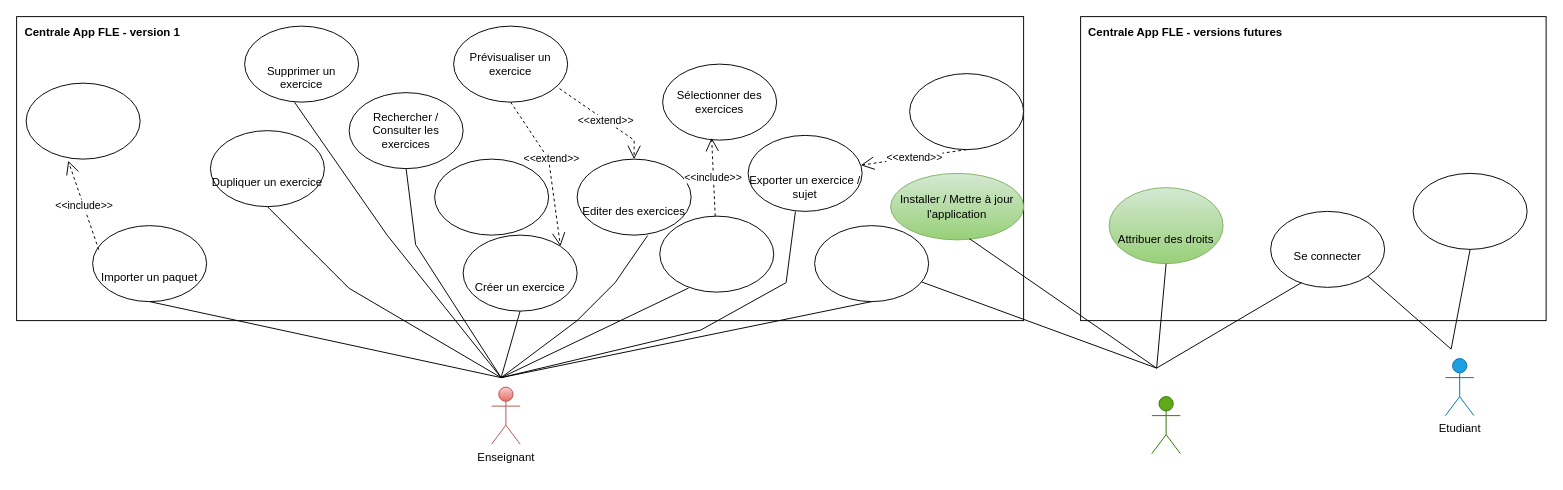
Some shapes in this 1563 by 490 pixel diagram are drawn without their labels. The shapes that lost their labels are listed below. From the top down, each one's box as (x1, y1, x2, y2) in pixels, then its label:
(25, 82, 140, 159): Détecter doublons et conflit
(909, 73, 1024, 150): Générer des variantes
(434, 158, 549, 235): Exporter un paquet d'échange
(1412, 172, 1527, 249): Faire un exercice
(659, 215, 774, 292): Composer un sujet
(814, 225, 929, 302): Sauvegarder / restaurer la base
(1151, 396, 1180, 454): Administrateur
